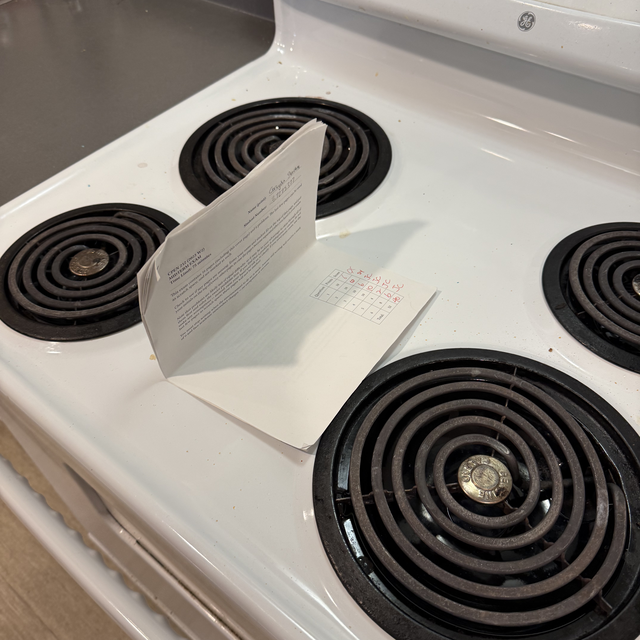Paper: (119, 121, 448, 450)
Stove: (0, 0, 640, 640)
